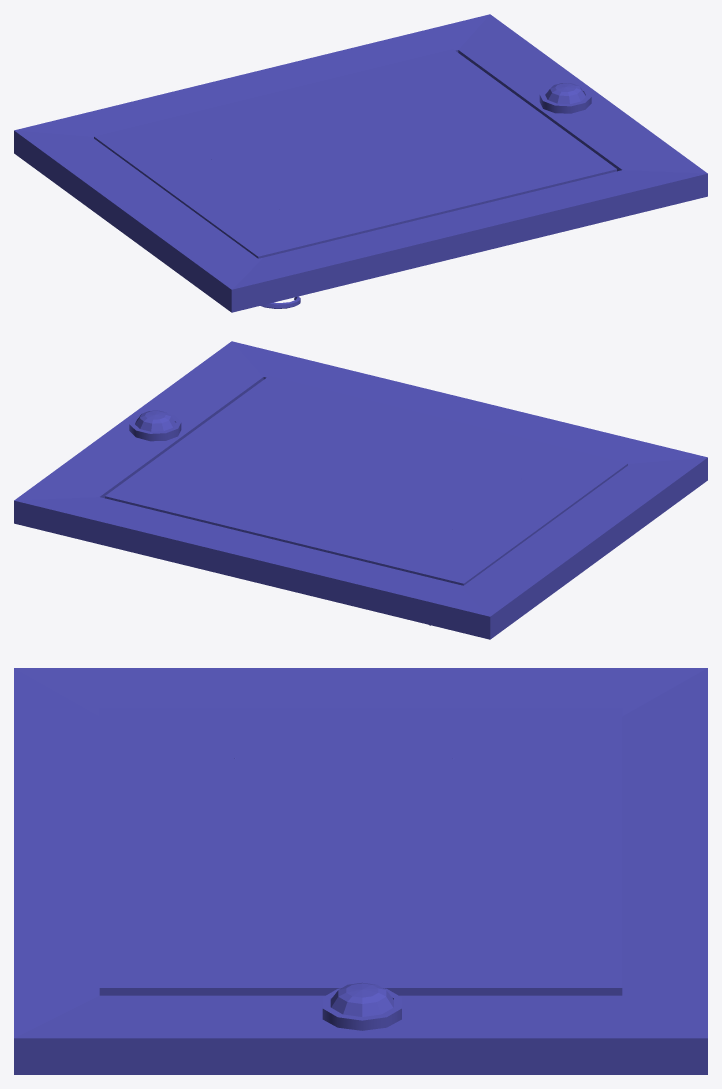
Rendered from LauncherTrap1.FBX.
The picture shows the model from 3 angles, top to bottom: view 1: azimuth 30°, elevation 25°; view 2: azimuth 150°, elevation 25°; view 3: azimuth 270°, elevation 25°; orthographic projection. The views are drawn at different scales.
Parts seen in each view (by area): view 1: Launcher, TrapLauncherBase, Luz, BaseLuz; view 2: Launcher, TrapLauncherBase, Luz, BaseLuz; view 3: Launcher, TrapLauncherBase, Luz, BaseLuz.
Part boxes in pixels (x1,y1,x2,y2): Launcher: (94, 49, 616, 258); TrapLauncherBase: (14, 14, 707, 312); Luz: (545, 83, 586, 103); BaseLuz: (539, 87, 591, 113); Launcher: (105, 376, 627, 585); TrapLauncherBase: (14, 341, 707, 639); Luz: (135, 410, 175, 431); BaseLuz: (129, 414, 181, 441); Launcher: (99, 708, 622, 995); TrapLauncherBase: (14, 668, 707, 1074); Luz: (330, 982, 393, 1016); BaseLuz: (322, 988, 401, 1030).
Size of the model in its own units: 16.68 by 3.78 by 13.21.
